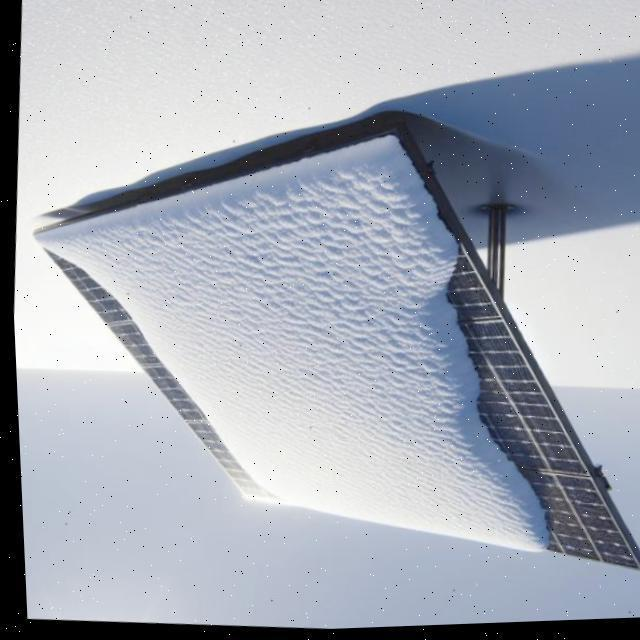Anomaly Solar Panel: (29, 61, 634, 631)
Snow: (28, 118, 548, 630)
